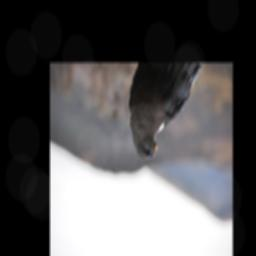Crow: (127, 63, 205, 161)
